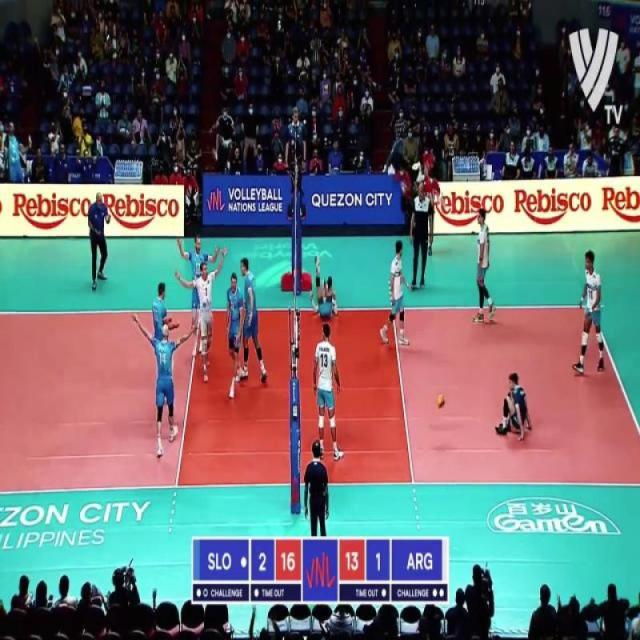volleyball: (438, 394, 446, 410)
